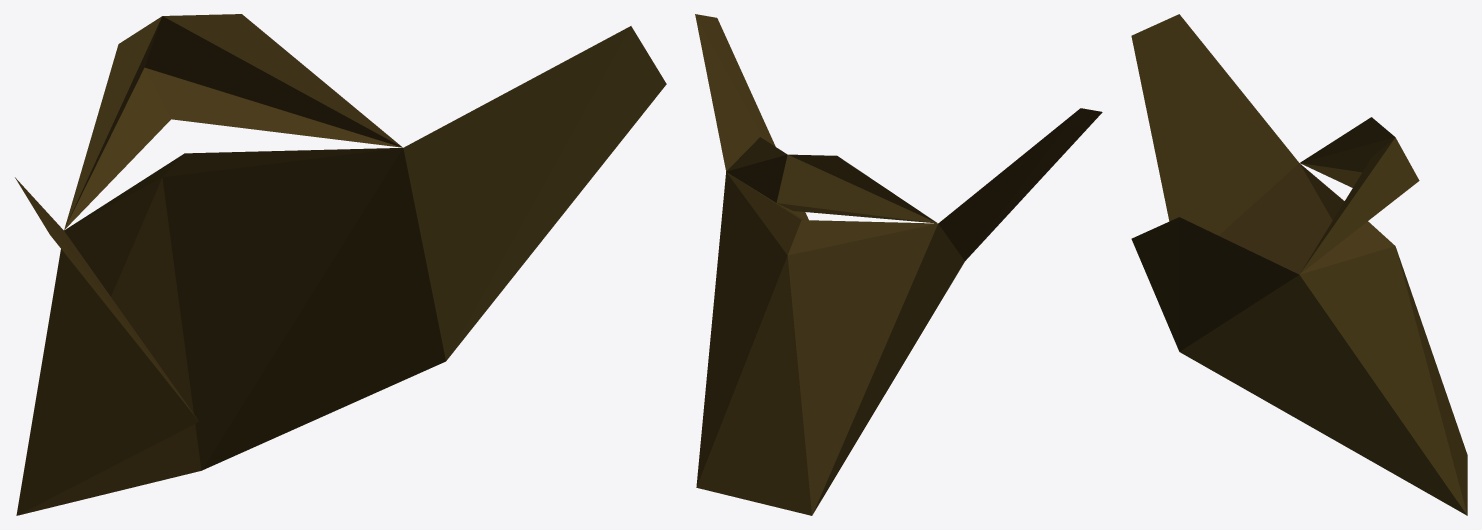
The model's file is npc_chat_zaff_1.obj.
The picture shows the model from 3 angles, left to right: view 1: azimuth 30°, elevation 25°; view 2: azimuth 150°, elevation 25°; view 3: azimuth 270°, elevation 25°; orthographic projection. The views are drawn at different scales.
Bounding box in the file's own units: 0.625 × 0.5312 × 0.4375.
